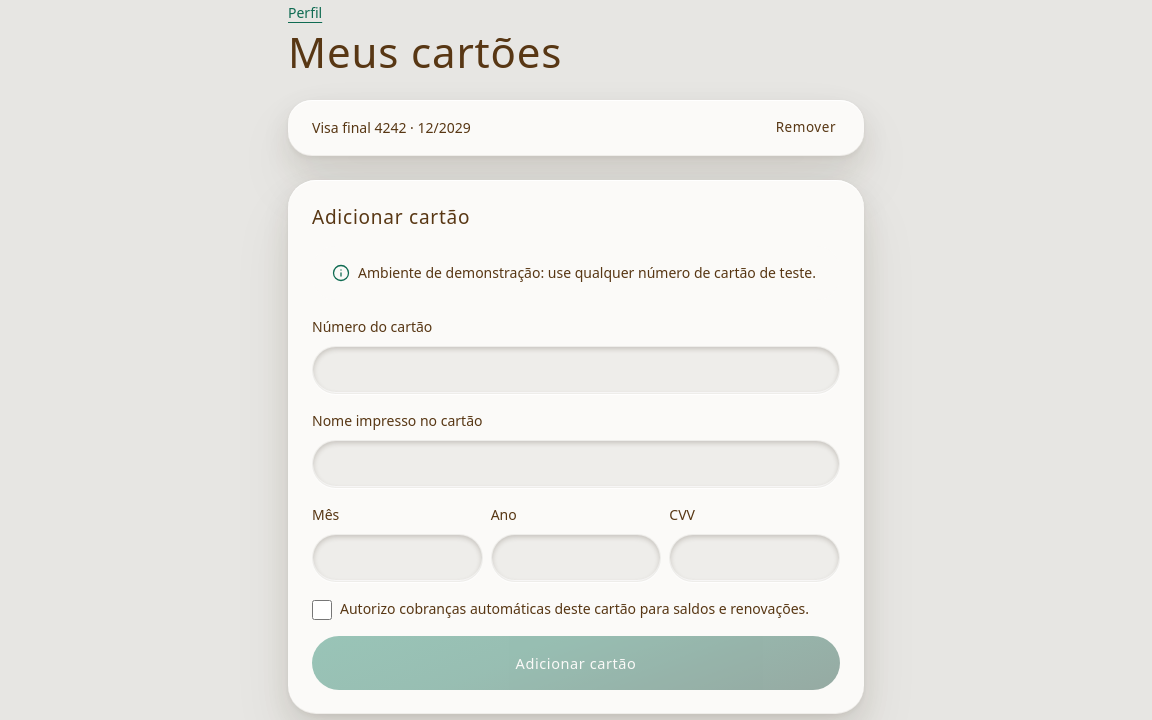
Test case: CardsPage (NUC-194) › keeps the card when the removal is cancelled
Click the button with aria-label "Remover Visa final 4242" at (806, 128), box [756,108,856,148]
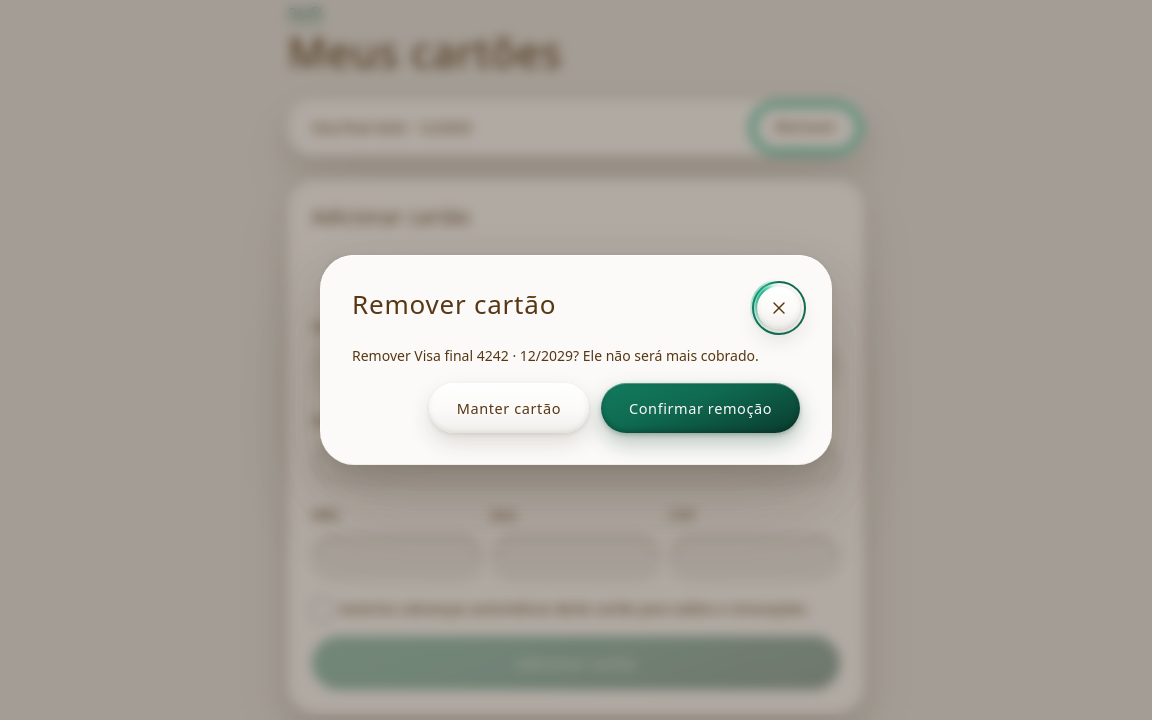
Click the button "Manter cartão" at (509, 408), box [429,383,589,433]
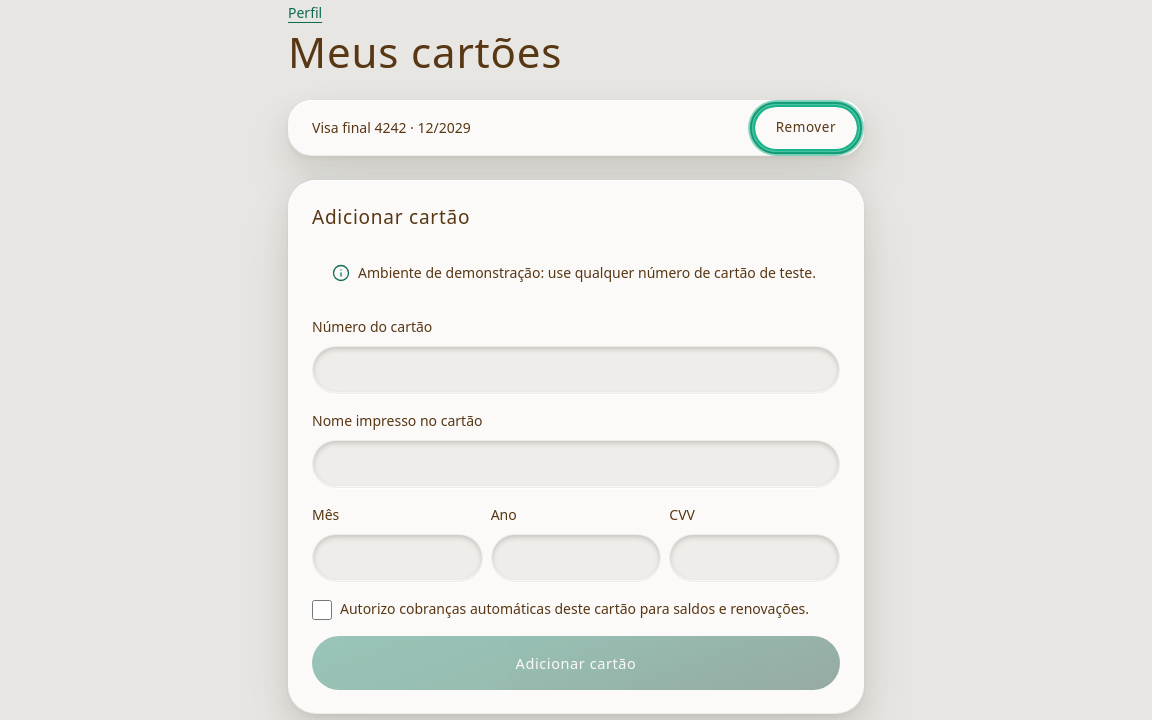
Expected: the text "Visa final 4242 · 12/2029" is shown, [312,117,471,139]
Expected: the dialog is gone
